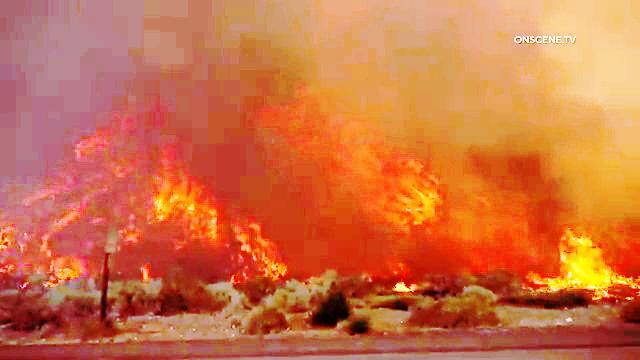fire: (103, 129, 269, 258), (0, 200, 98, 291), (530, 216, 640, 296), (258, 227, 359, 287), (390, 262, 417, 304)
smoke: (2, 2, 332, 118), (498, 58, 636, 154), (272, 135, 371, 221), (439, 16, 503, 119)
